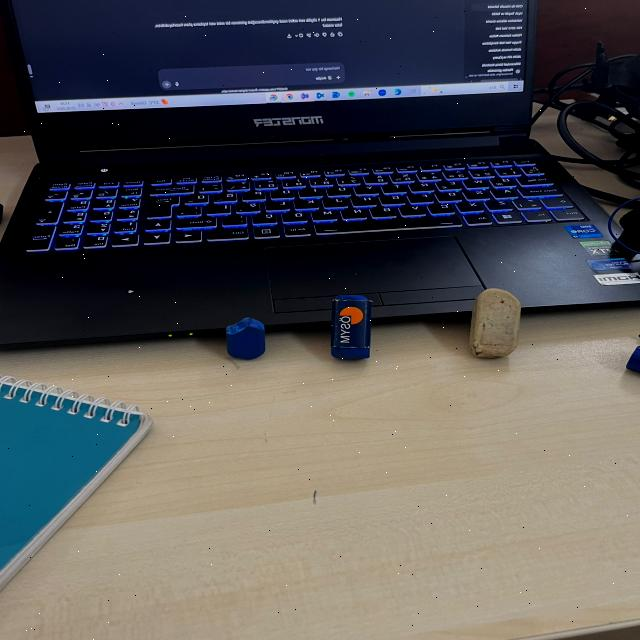eraser: (451, 279, 532, 365), (312, 286, 378, 369), (206, 313, 272, 369)
